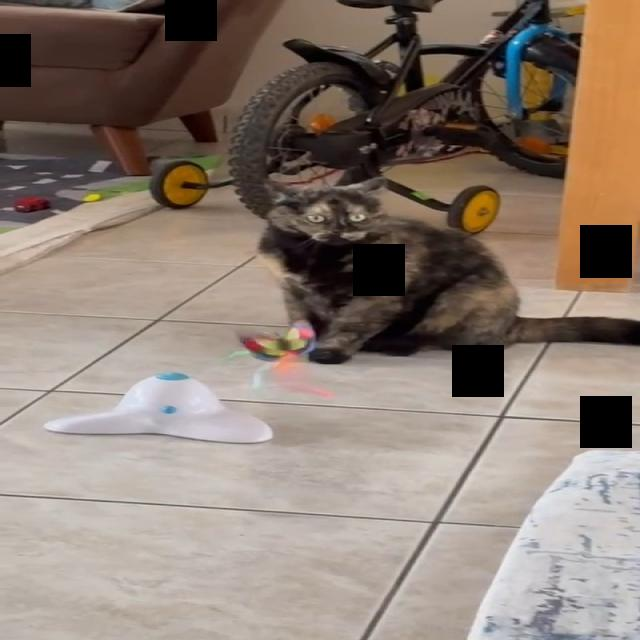authorized: (254, 175, 638, 364)
